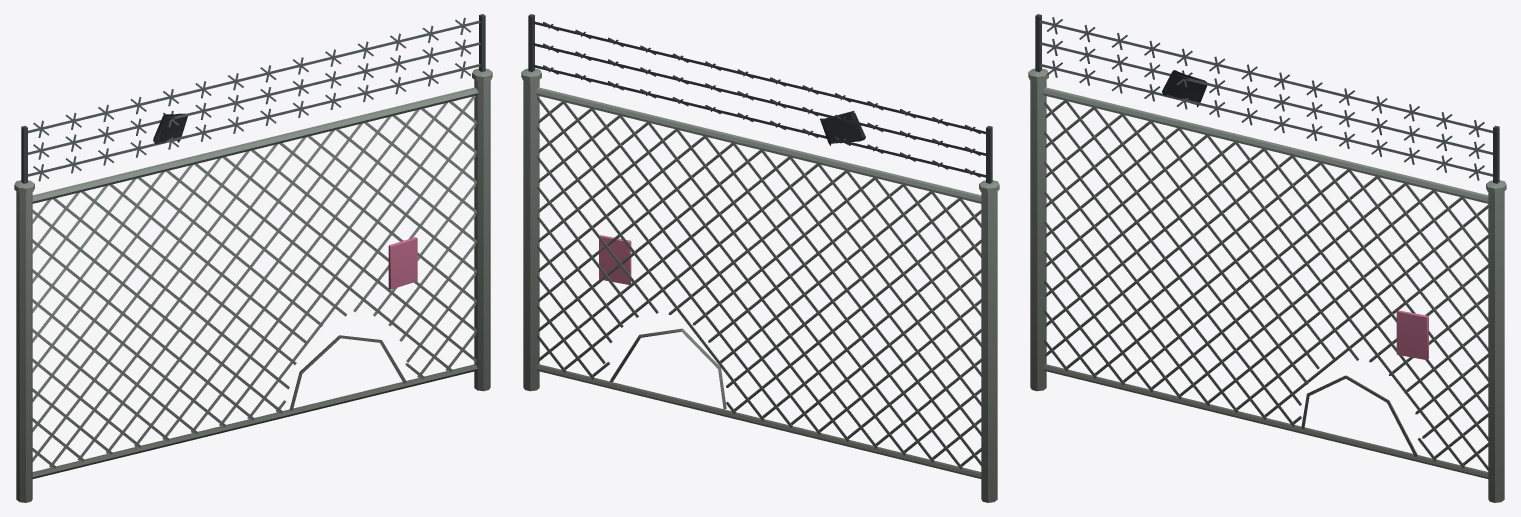
Rendered from 14_cloture_grillagee.fbx.
3 renders of one model, left to right at view 1: azimuth 30°, elevation 25°; view 2: azimuth 150°, elevation 25°; view 3: azimuth 330°, elevation 25°, orthographic.
Visible parts, largest first — view 1: Grillage, Poteaux, Barbele; view 2: Grillage, Poteaux, Barbele; view 3: Grillage, Poteaux, Barbele.
Boxes of the visible parts, x1=… form: Grillage: x1=32, y1=96, x2=476, y2=468; Poteaux: x1=14, y1=14, x2=492, y2=502; Barbele: x1=28, y1=17, x2=480, y2=181; Grillage: x1=537, y1=96, x2=981, y2=469; Poteaux: x1=521, y1=14, x2=999, y2=502; Barbele: x1=533, y1=21, x2=985, y2=177; Grillage: x1=1044, y1=100, x2=1488, y2=470; Poteaux: x1=1028, y1=14, x2=1506, y2=502; Barbele: x1=1040, y1=17, x2=1492, y2=180.
Bounding box in the file's own units: 2.24 × 1.68 × 0.084.
1 material, 1 textured.
